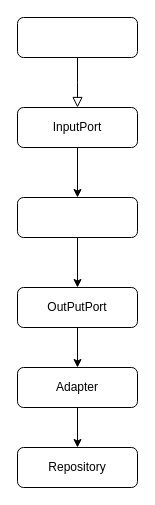
Image size: 155x505. Some labels were removed from this diagram. Each missing label, with the centre of its shape:
"Controller" belongs at point (77, 37).
"UseCase" belongs at point (77, 217).
